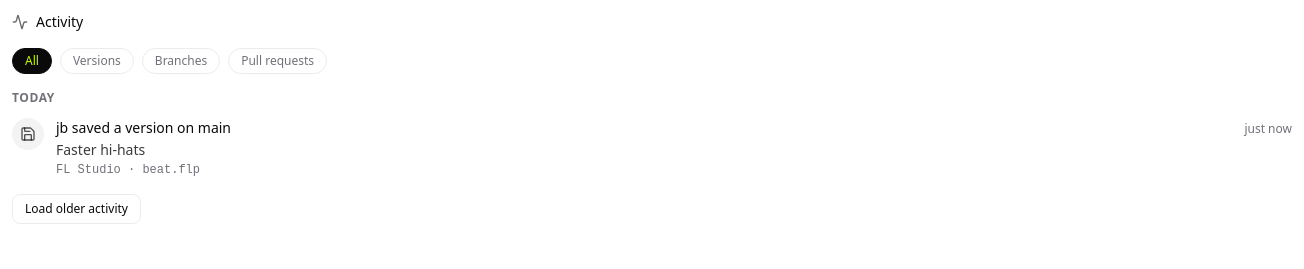
Test: ActivityFeed › loads older activity on demand
Click the button "Load older activity".
click(76, 209)  # box top-left (12, 194), bottom-right (141, 224)
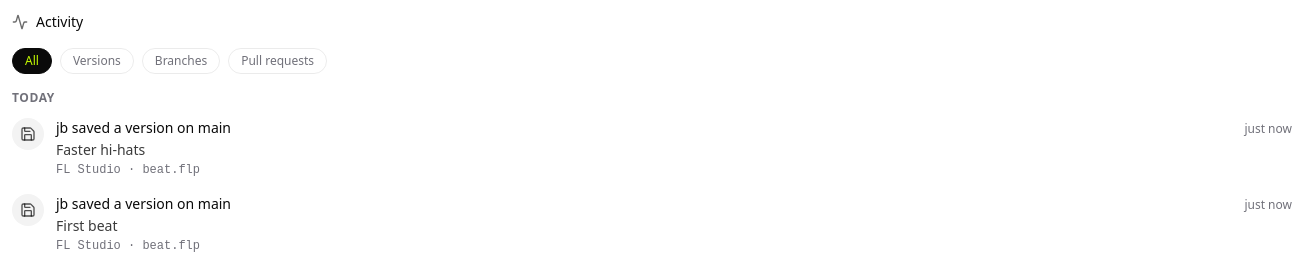
Expected: the text "Faster hi-hats" is shown, top-left (56, 140), bottom-right (145, 159)
Expected: the text "First beat" is shown, top-left (56, 216), bottom-right (118, 235)
Expected: the button "Load older activity" is gone
